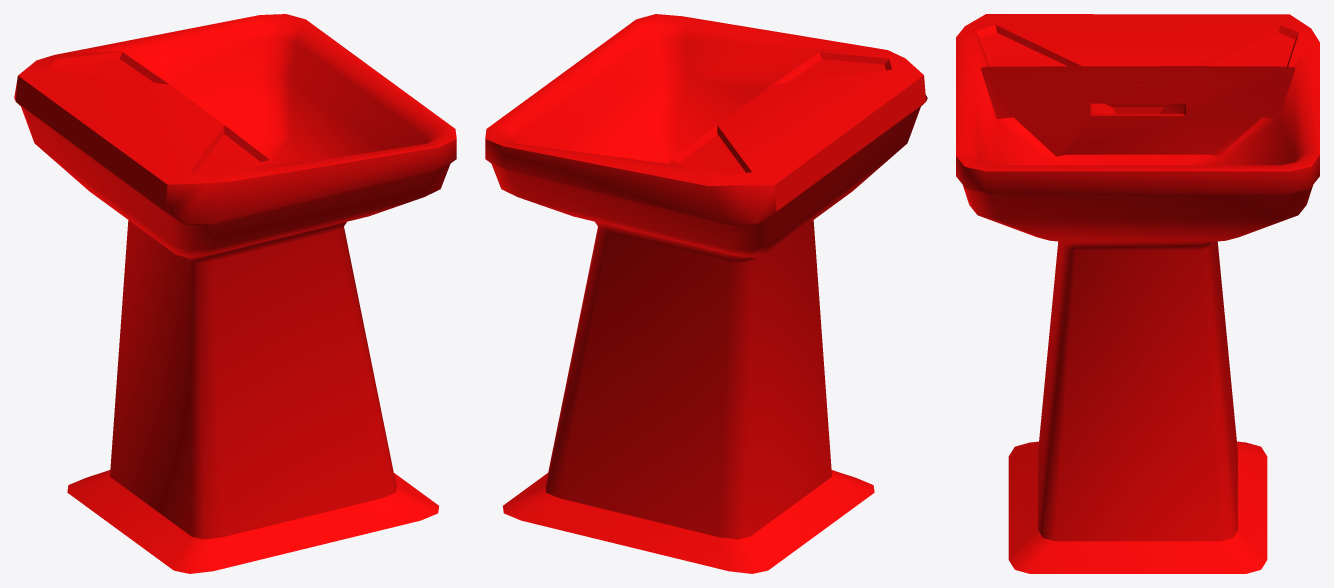
File: Sink.fbx
3 renders of one model, left to right at view 1: azimuth 30°, elevation 25°; view 2: azimuth 150°, elevation 25°; view 3: azimuth 270°, elevation 25°, orthographic.
Parts seen in each view (by area): view 1: Sink; view 2: Sink; view 3: Sink.
Part boxes in pixels (x1,y1,x2,y2): Sink: (14, 14, 456, 573); Sink: (485, 14, 927, 573); Sink: (956, 14, 1319, 573).
Bounding box in the file's own units: 76.43 × 102 × 80.34.
